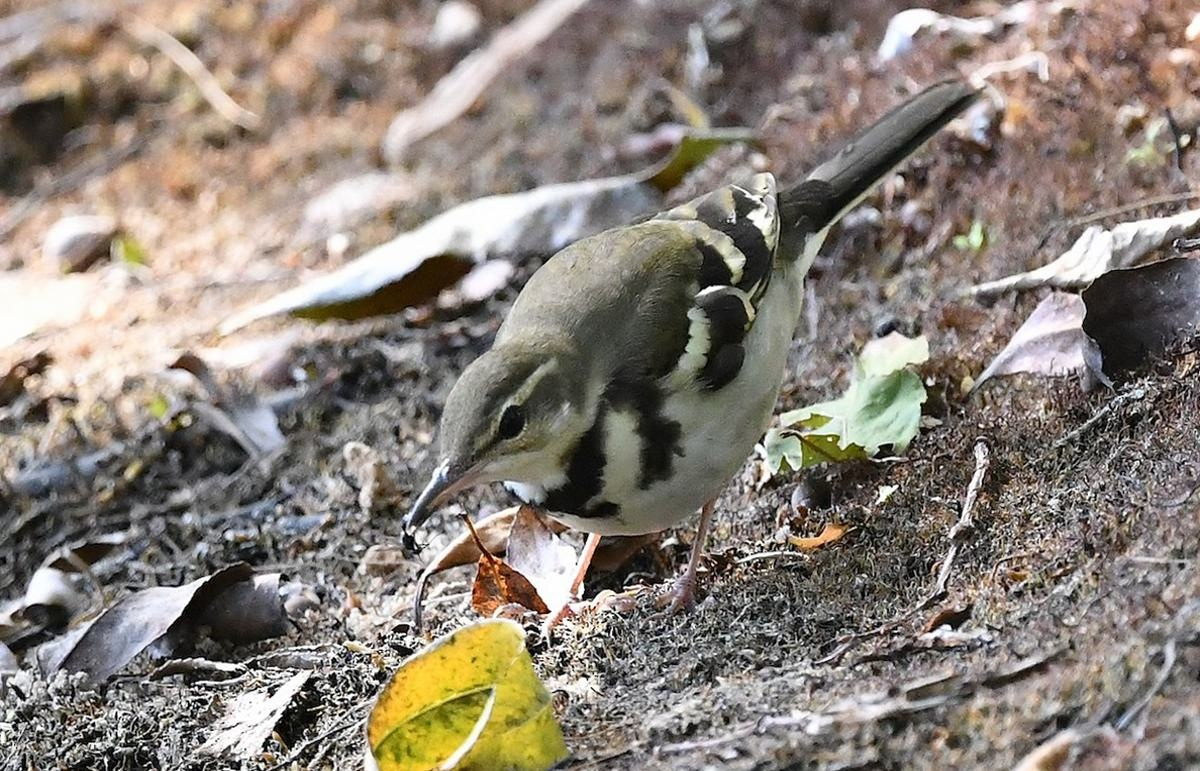wagtail: (421, 53, 983, 582)
